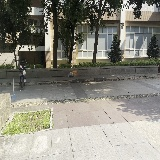fire: (71, 69, 79, 77)
